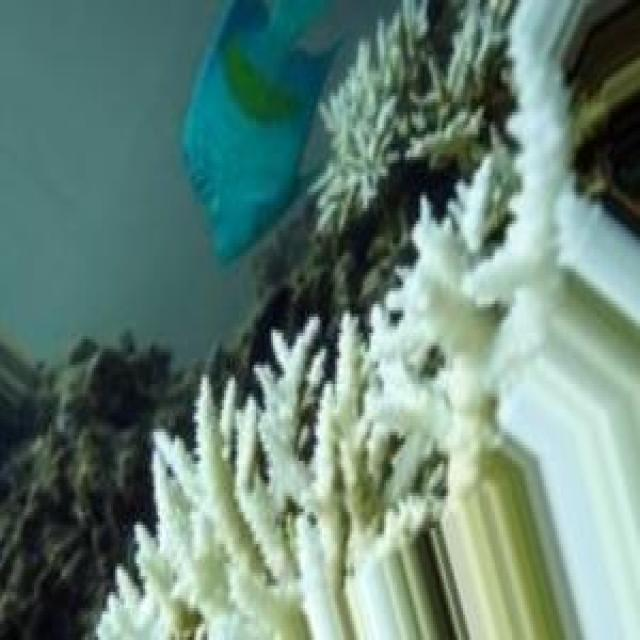Bleached: (100, 8, 640, 639)
